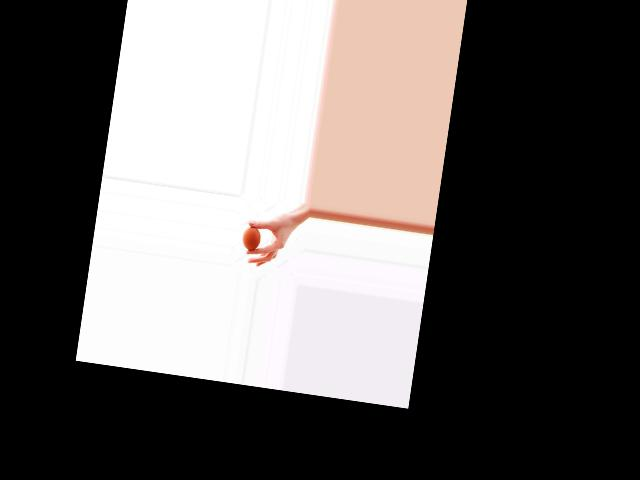egg: (240, 225, 261, 251)
